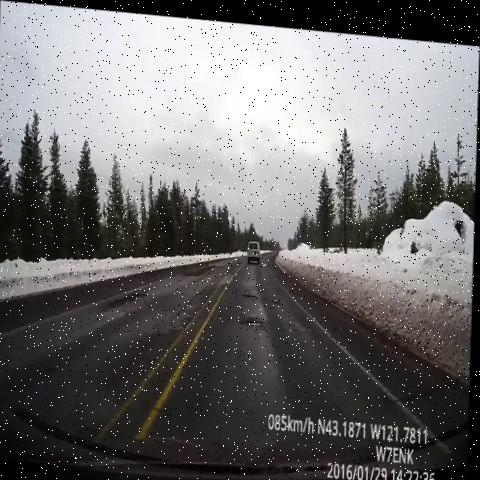pothole: (98, 275, 152, 330), (179, 248, 225, 286), (232, 281, 265, 306), (242, 307, 272, 333), (271, 290, 288, 307)
